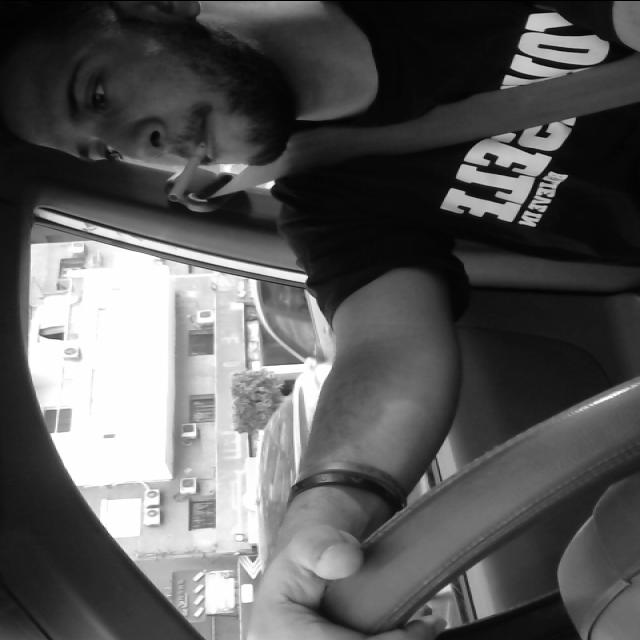smoking: (160, 135, 230, 205)
